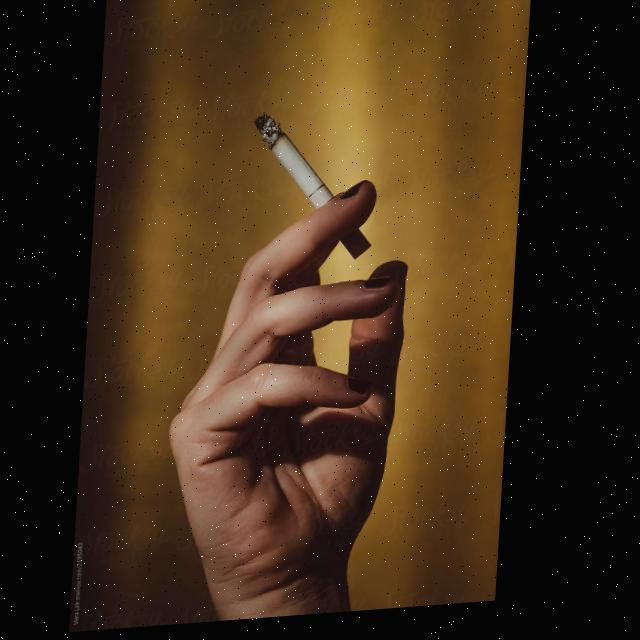cigarette: (248, 108, 382, 272)
